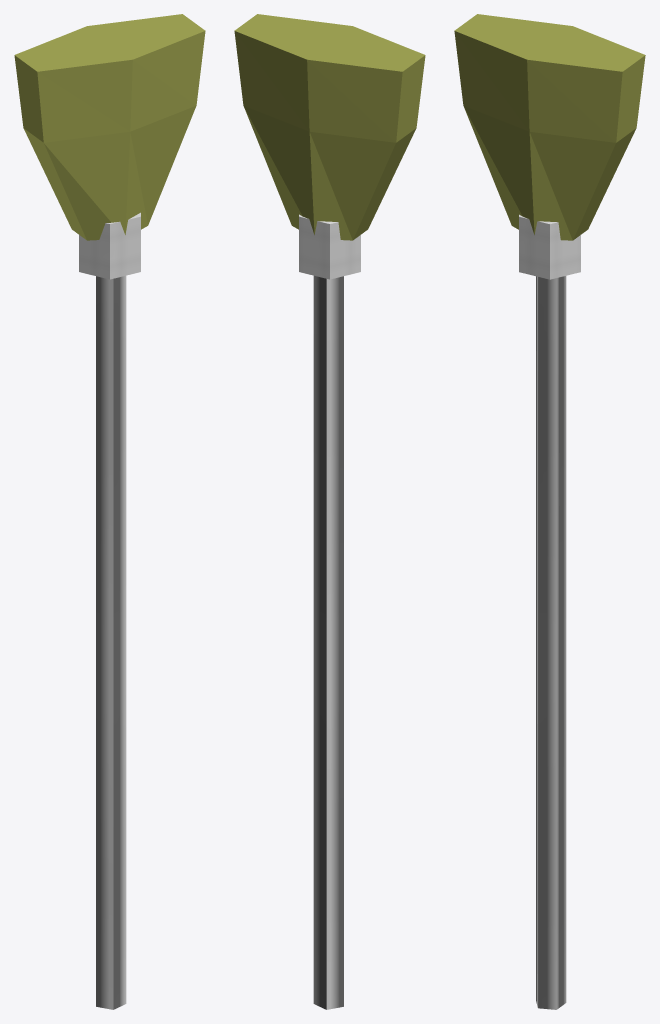
The model's file is tool_broom.obj.
3 renders of one model, left to right at view 1: azimuth 30°, elevation 25°; view 2: azimuth 150°, elevation 25°; view 3: azimuth 330°, elevation 25°, orthographic.
Parts seen in each view (by area): view 1: tool_broom; view 2: tool_broom; view 3: tool_broom.
Part boxes in pixels (x1=…): tool_broom: x1=14, y1=14, x2=205, y2=1009; tool_broom: x1=234, y1=14, x2=425, y2=1009; tool_broom: x1=454, y1=14, x2=645, y2=1009.
Bounding box in the file's own units: 0.1906 × 1.04 × 0.09.
